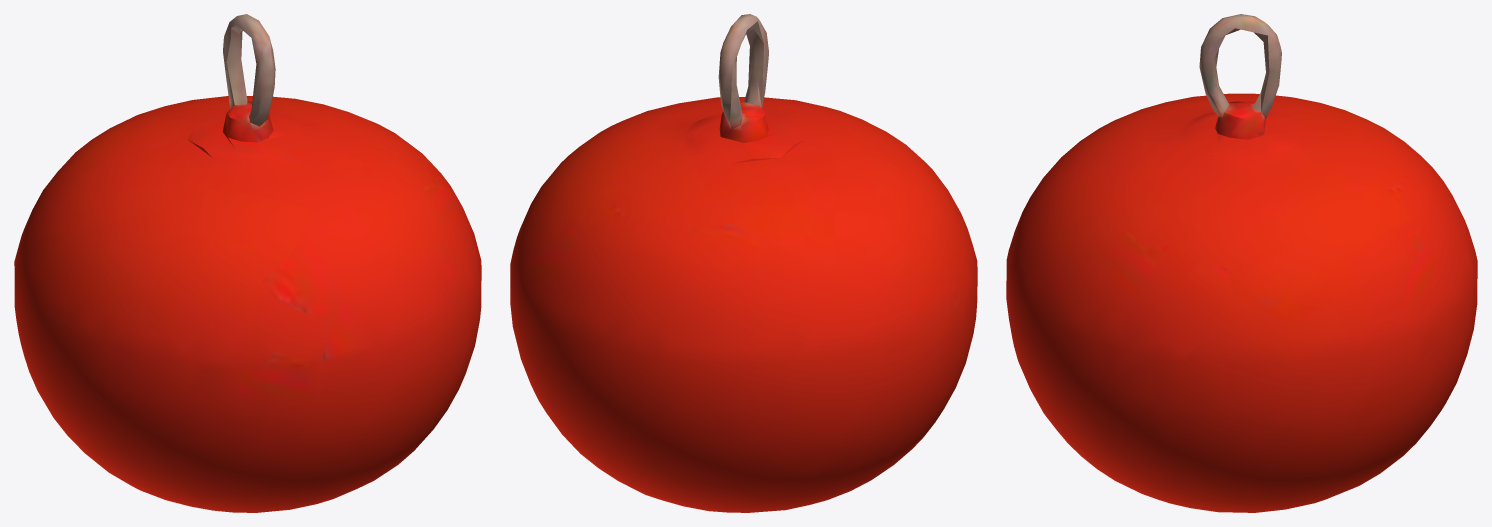
File: buoy.glb
The picture shows the model from 3 angles, left to right: view 1: azimuth 30°, elevation 25°; view 2: azimuth 150°, elevation 25°; view 3: azimuth 270°, elevation 25°; orthographic projection.
Parts seen in each view (by area): view 1: buoy; view 2: buoy; view 3: buoy.
Part boxes in pixels (x1=…): buoy: x1=14, y1=14, x2=481, y2=512; buoy: x1=510, y1=14, x2=977, y2=512; buoy: x1=1006, y1=14, x2=1477, y2=512.
Size of the model in its own units: 0.4576 by 0.5 by 0.4583.
1 material, 1 textured.
